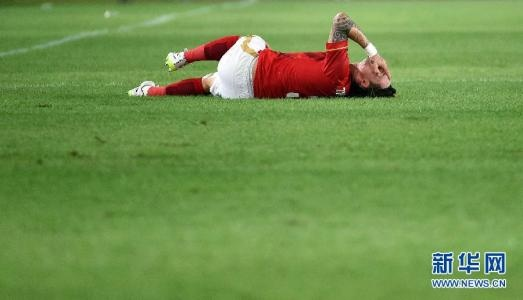falling: (127, 0, 405, 106)
